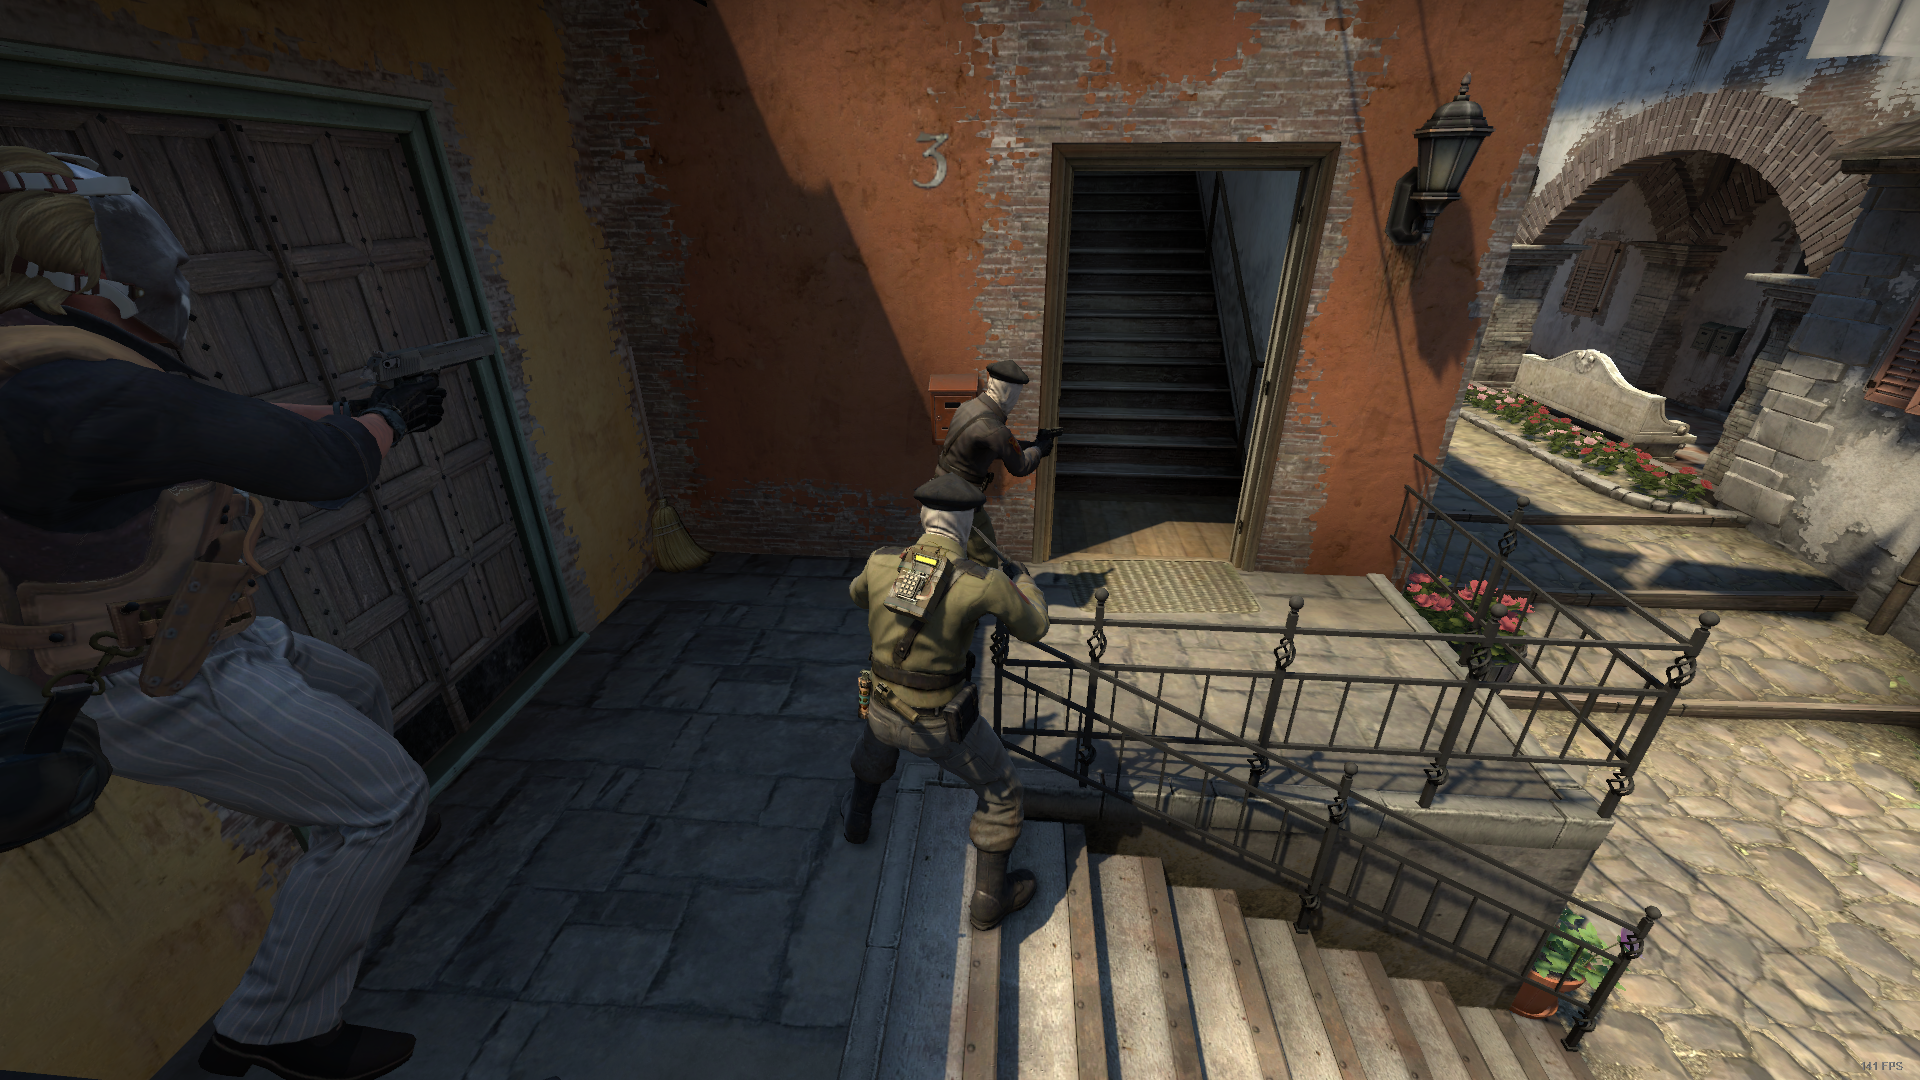t: (851, 477, 1050, 932), (936, 360, 1047, 483)
